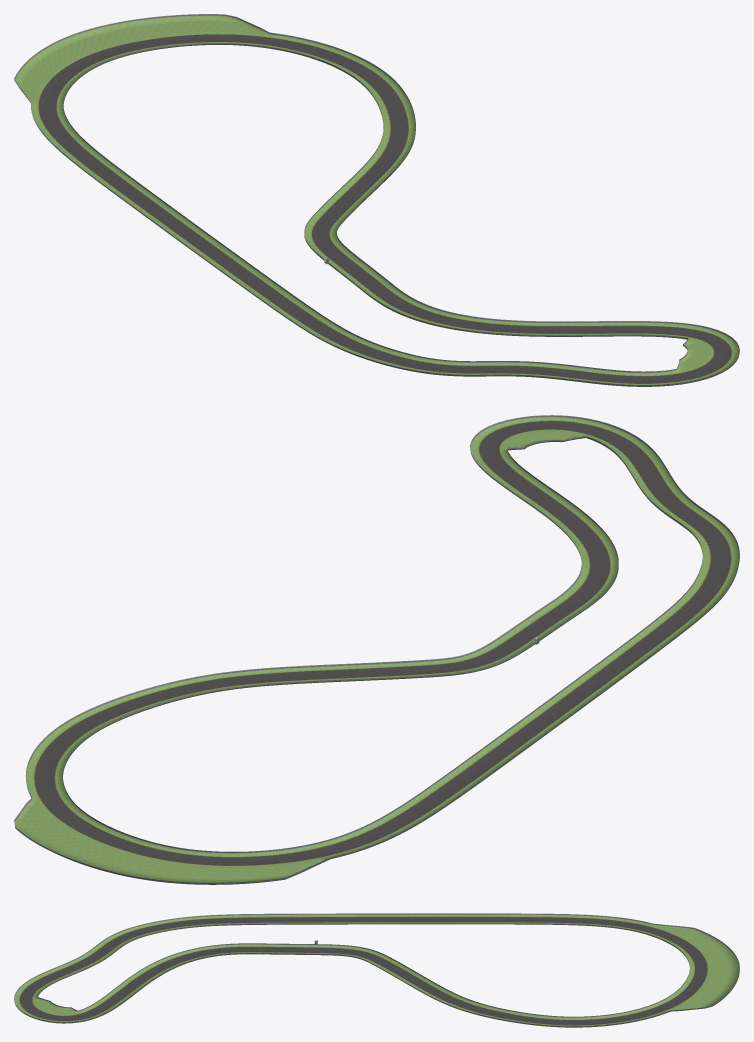
Rendered from MountainValley_Track.dae.
3 renders of one model, top to bottom at view 1: azimuth 30°, elevation 25°; view 2: azimuth 150°, elevation 25°; view 3: azimuth 270°, elevation 25°, orthographic. The views are drawn at different scales.
Visible parts, largest first — view 1: Road_Bed; view 2: Road_Bed; view 3: Road_Bed.
Part boxes in pixels (x1,y1,x2,y2): Road_Bed: [14, 14, 739, 386]; Road_Bed: [14, 415, 739, 884]; Road_Bed: [14, 913, 739, 1027].
Size of what is drawn, in the model's own units: 594 by 1611 by 10.27.
5 materials, 5 textured.
